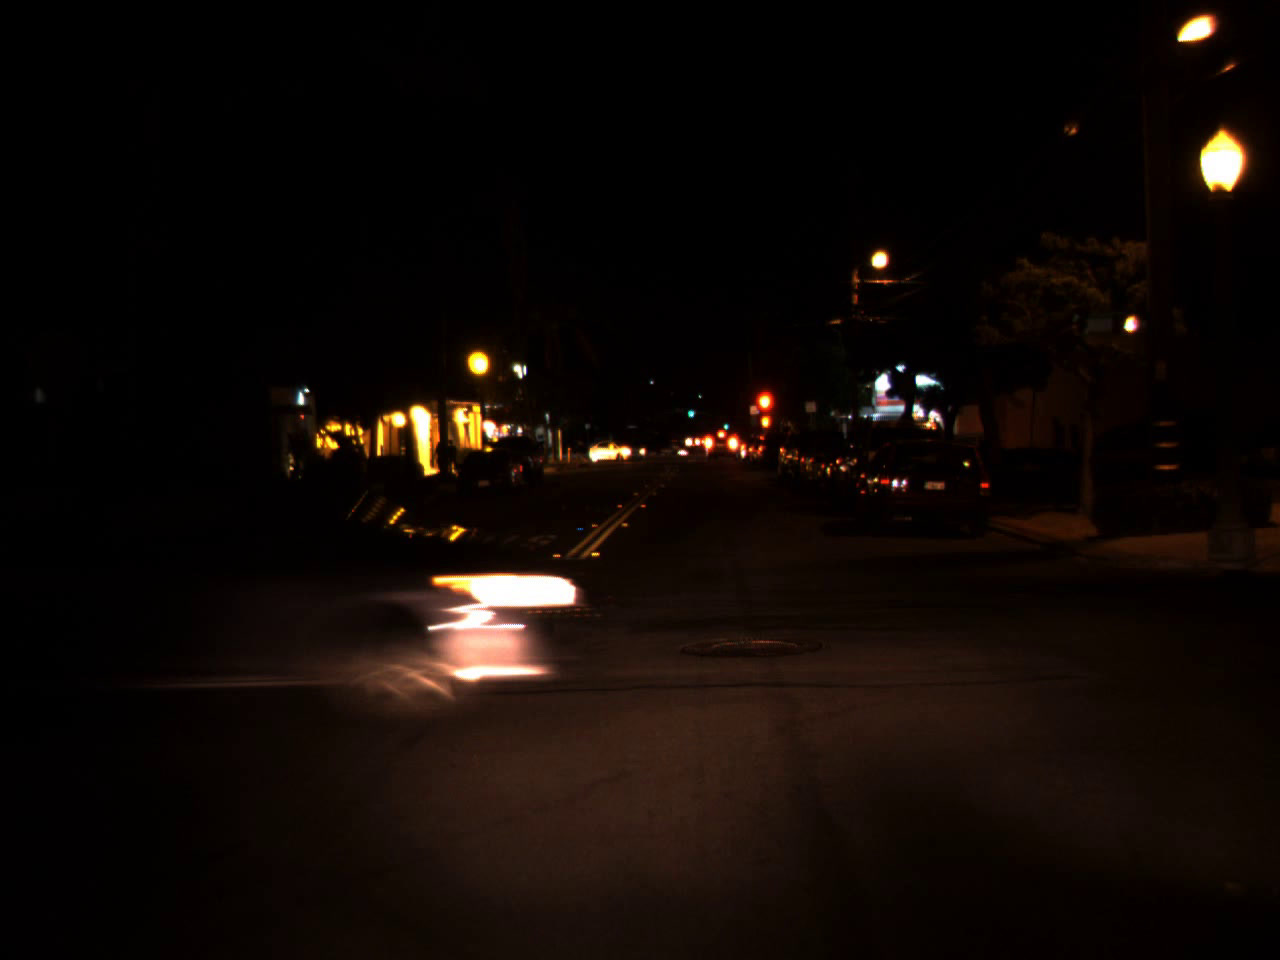go: (685, 403, 695, 418)
stop: (753, 387, 777, 441)
